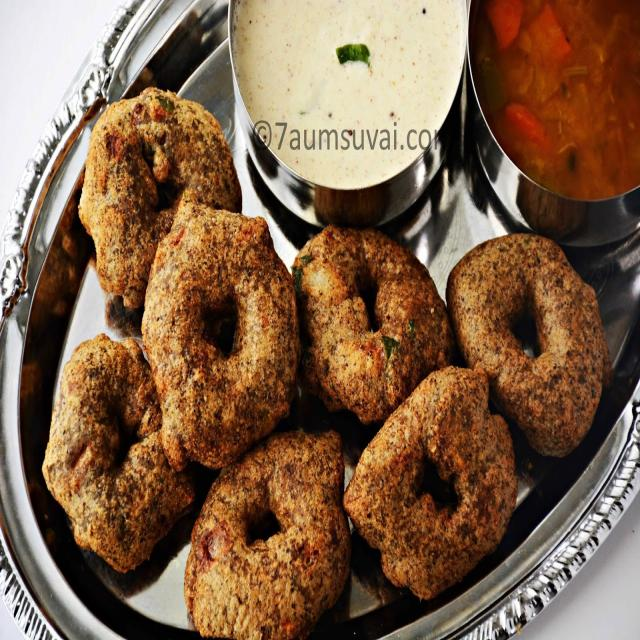medu vadai: (142, 201, 299, 469), (344, 367, 517, 599), (446, 234, 612, 457), (43, 335, 195, 572), (80, 88, 241, 307), (184, 431, 350, 639), (292, 226, 454, 424)
